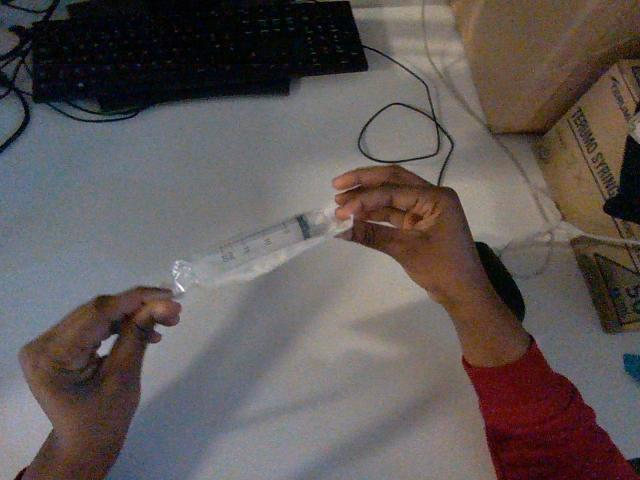syringe: (172, 205, 352, 292)
